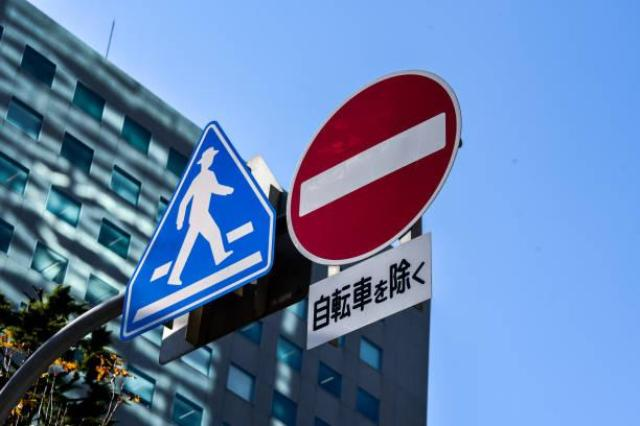B2: (284, 68, 462, 266)
